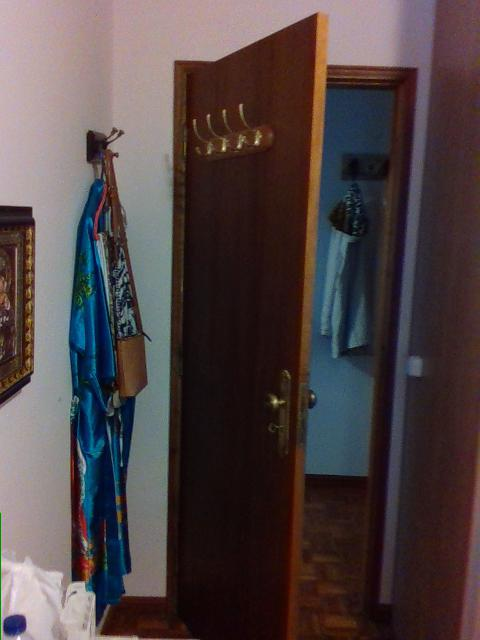semi_door: (166, 7, 420, 639)
